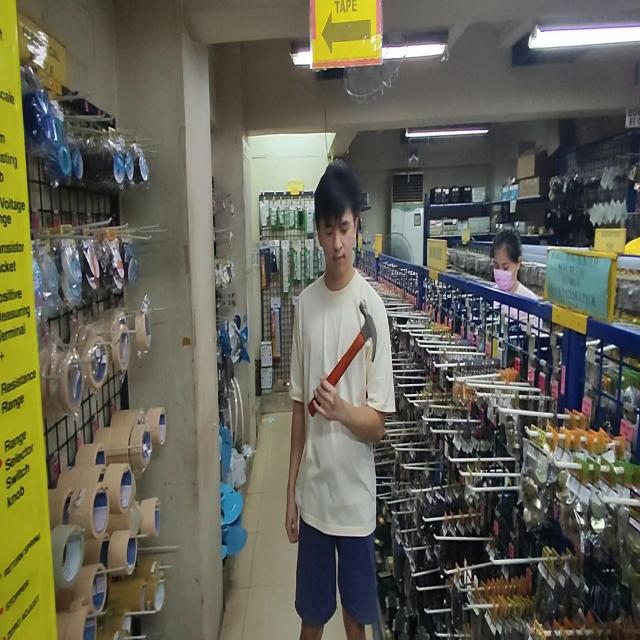hammer: (308, 299, 376, 416)
